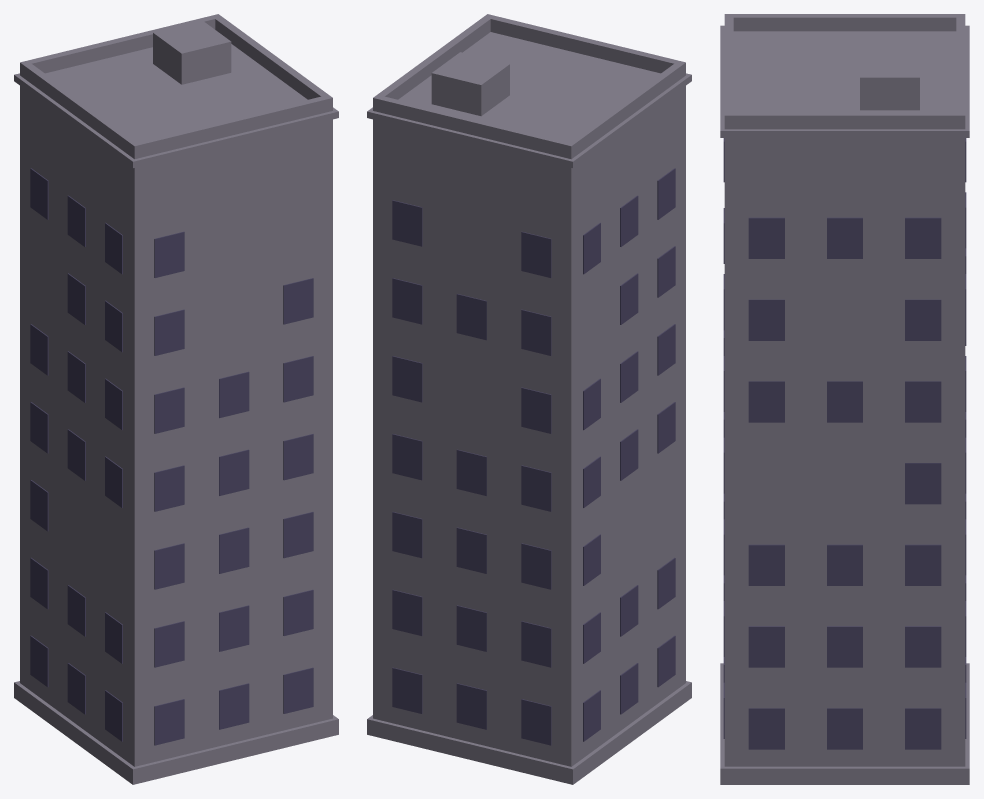
File: DistantBuilding24m.glb
3 renders of one model, left to right at view 1: azimuth 30°, elevation 25°; view 2: azimuth 150°, elevation 25°; view 3: azimuth 270°, elevation 25°, orthographic. The views are drawn at different scales.
Visible parts, largest first — view 1: mass, window (×36), parapet (×4), cornice, plinth, roof-box; view 2: mass, window (×37), cornice, parapet (×4), plinth, roof-box; view 3: mass, window (×18), parapet (×4), plinth, cornice, roof-box.
Boxes of the visible parts, x1,y1,x2,y2 form: mass: (20, 44, 332, 766); window (×36): (30, 168, 313, 745); parapet (×4): (20, 14, 332, 159); cornice: (14, 44, 338, 167); plinth: (14, 681, 338, 784); roof-box: (153, 20, 231, 84); mass: (373, 32, 685, 766); window (×37): (392, 168, 675, 745); cornice: (367, 34, 691, 167); parapet (×4): (373, 14, 685, 159); plinth: (367, 681, 691, 784); roof-box: (431, 52, 509, 116); mass: (724, 31, 965, 766); window (×18): (748, 217, 941, 749); parapet (×4): (724, 14, 965, 129); plinth: (720, 663, 969, 784); cornice: (720, 25, 969, 137); roof-box: (860, 52, 919, 110).
Bounding box in the file's own units: 8.3 × 25.2 × 8.3.
